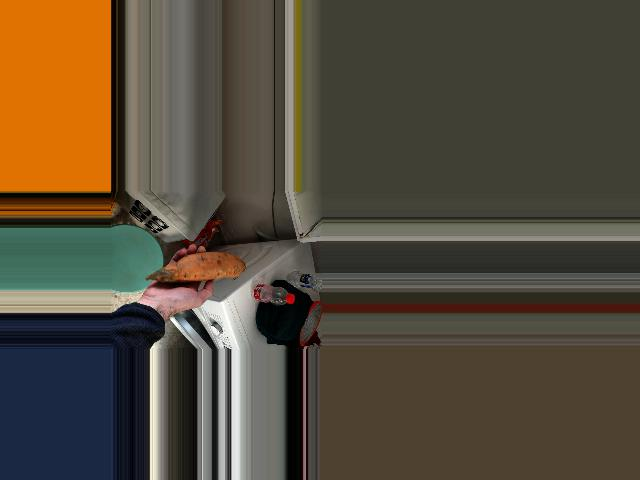sweet_potato: (160, 249, 243, 282)
